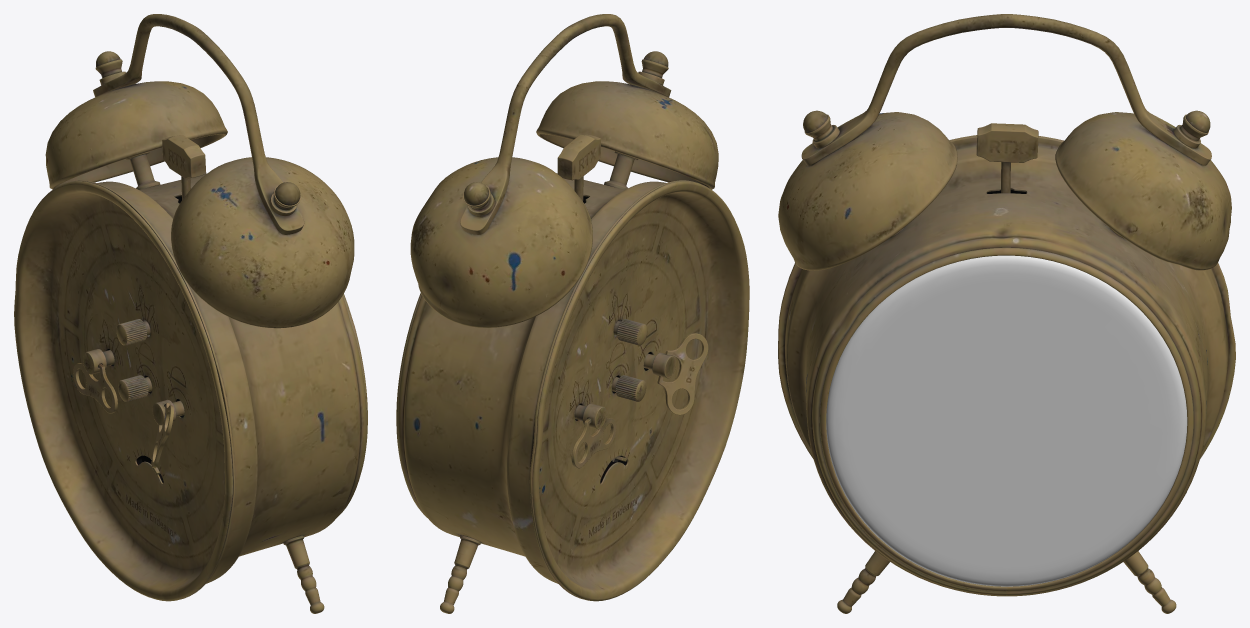
The model's file is alarm_clock.glb.
3 views of the same model, side by side, from view 1: azimuth 30°, elevation 25°; view 2: azimuth 150°, elevation 25°; view 3: azimuth 270°, elevation 25° (orthographic). The views are drawn at different scales.
Parts seen in each view (by area): view 1: body_01_mesh_00; view 2: body_01_mesh_00; view 3: body_01_mesh_00, bodyGlass_01_mesh_00.
Boxes of the visible parts, x1,y1,x2,y2 form: body_01_mesh_00: (14,14,367,613); body_01_mesh_00: (396,14,749,613); body_01_mesh_00: (778,14,1235,613); bodyGlass_01_mesh_00: (826,255,1187,586).
Bounding box in the file's own units: 0.1008 × 0.2943 × 0.2123.
Materials: 2 (1 with a texture image).
